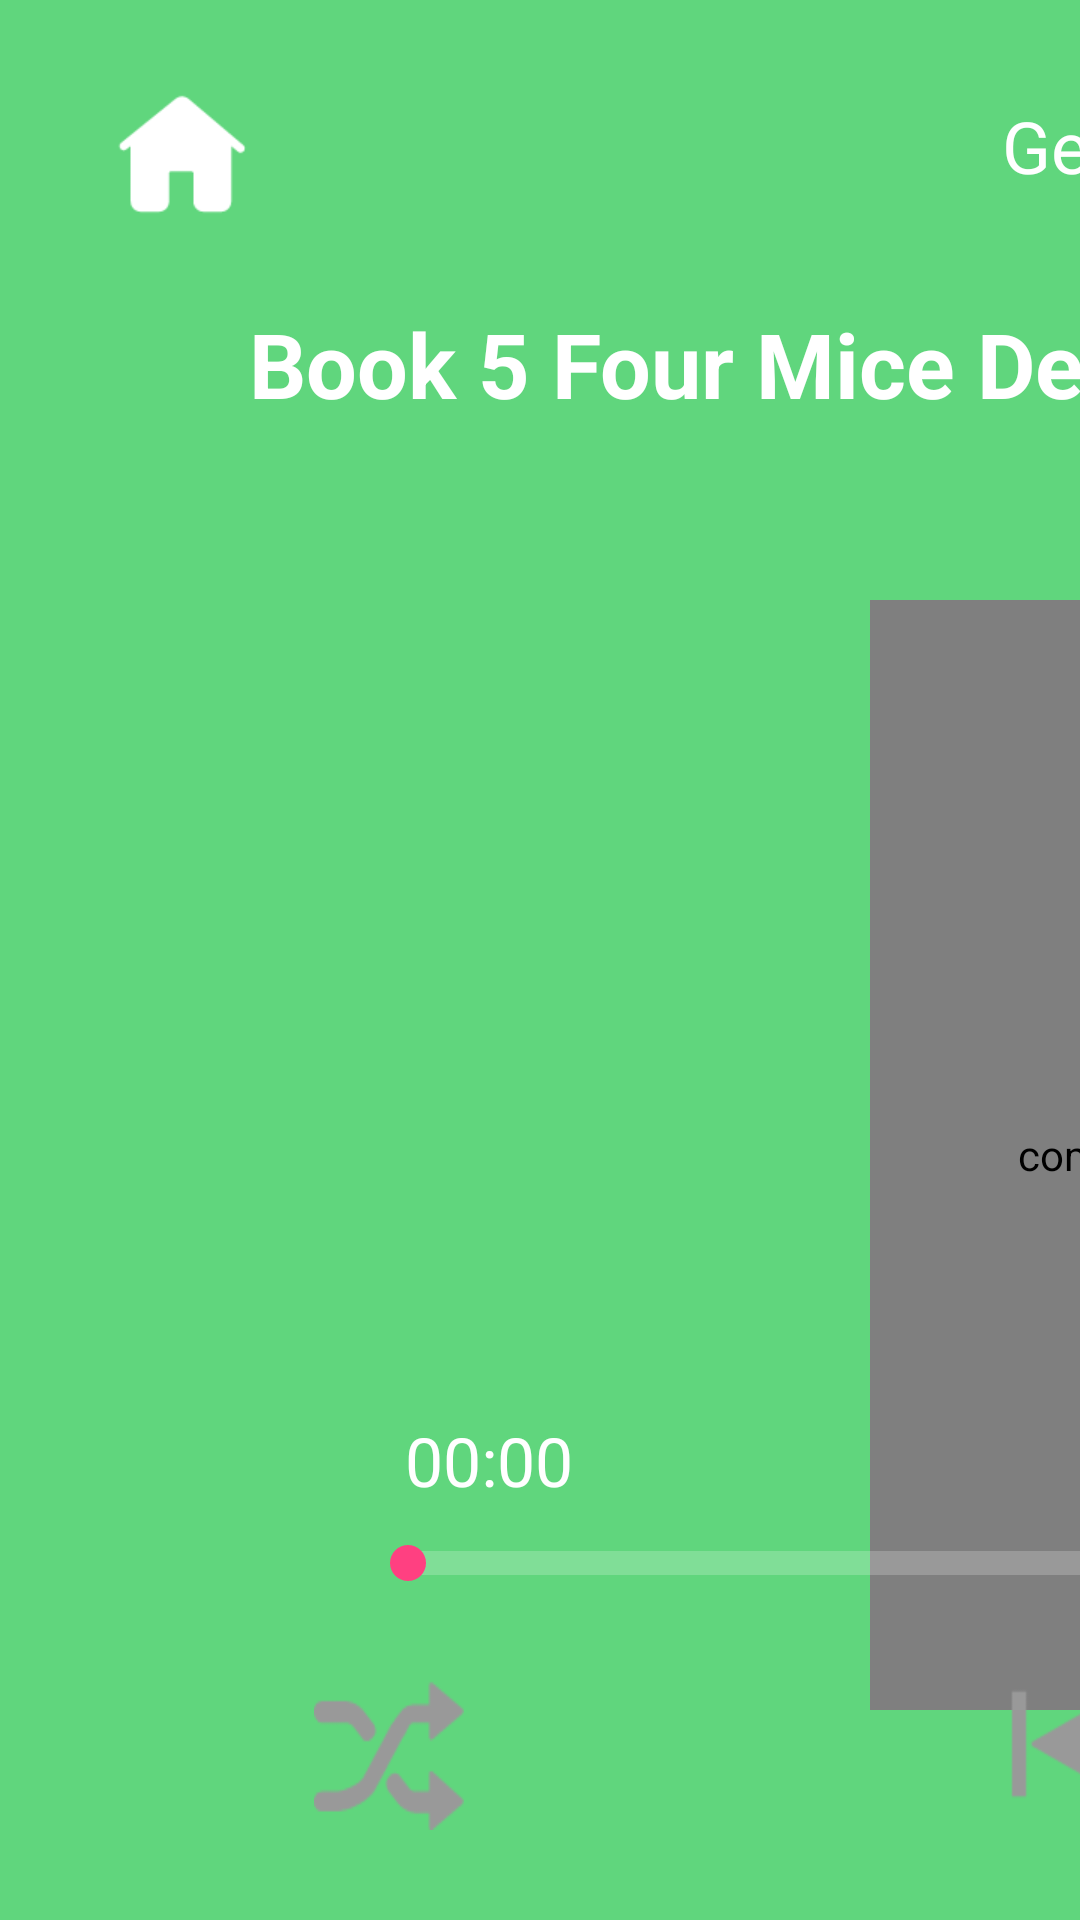

Where icons sit on this 1080 x 1920 app screen, as box=[x1, y1, x2, y2]:
player random: box=[314, 1683, 464, 1830]
